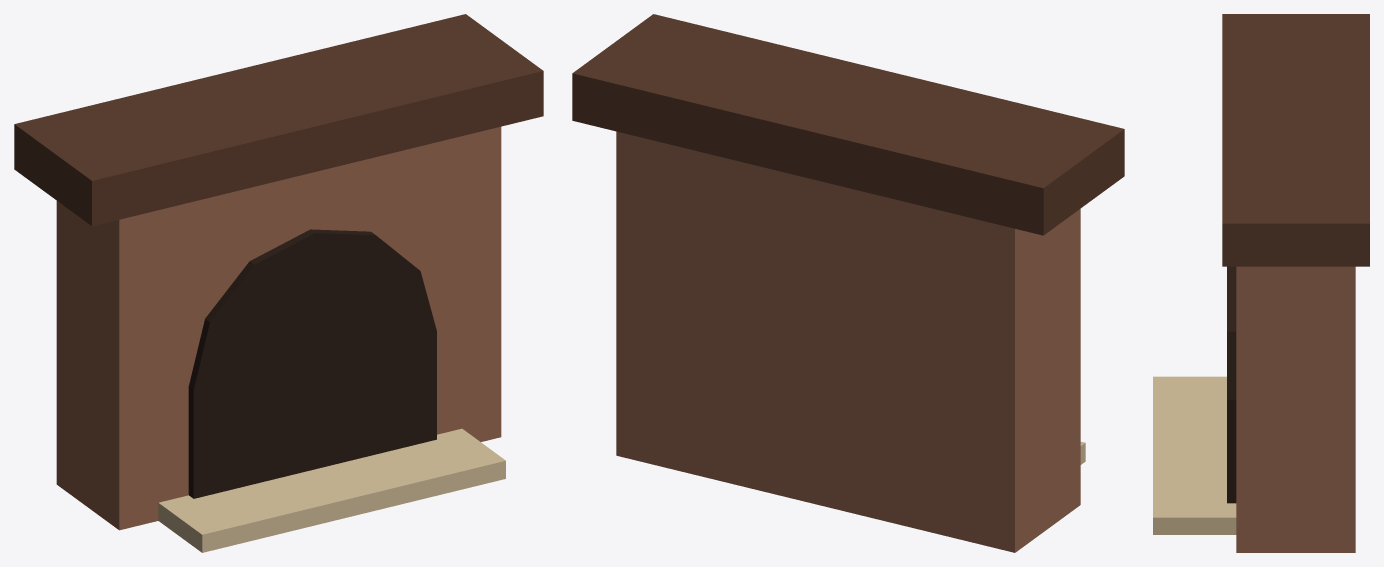
File: fireplace.glb
3 views of the same model, side by side, from view 1: azimuth 30°, elevation 25°; view 2: azimuth 150°, elevation 25°; view 3: azimuth 270°, elevation 25° (orthographic). The views are drawn at different scales.
Visible parts, largest first — view 1: fireplace; view 2: fireplace; view 3: fireplace.
Boxes of the visible parts, box(x1,y1,x2,y2) form: fireplace: box(14, 14, 543, 552); fireplace: box(572, 14, 1124, 552); fireplace: box(1153, 14, 1369, 552).
Bounding box in the file's own units: 2.08 × 1.6 × 0.91.
